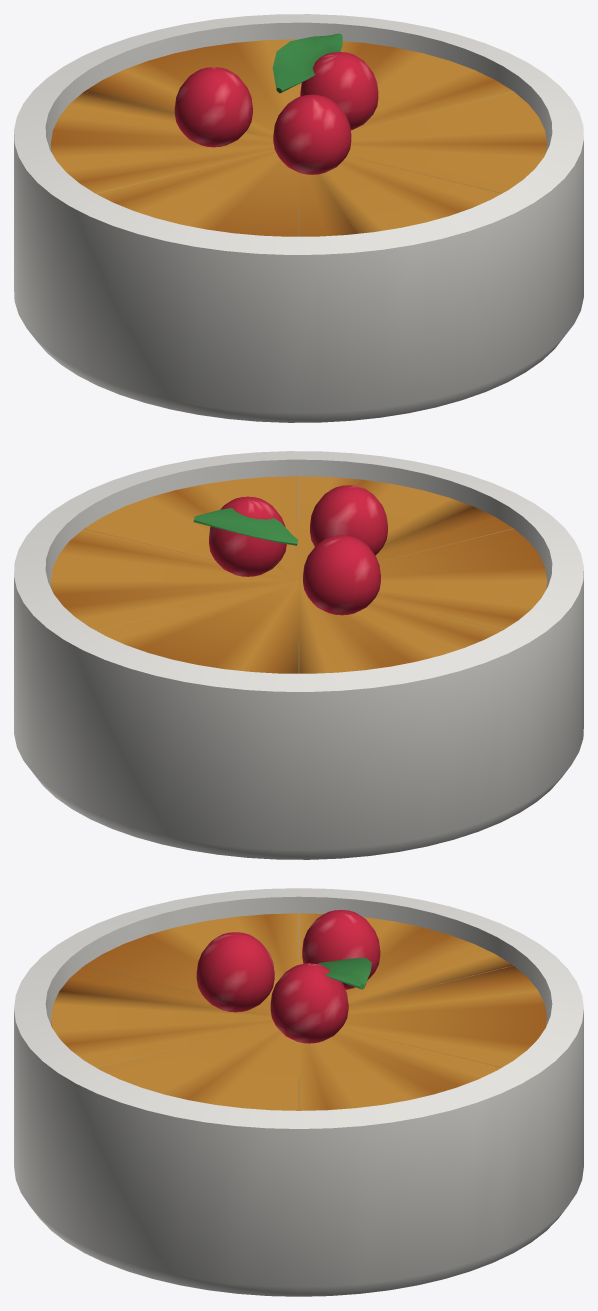
Rendered from dish-creme-brulee-lod0.glb.
3 renders of one model, top to bottom at view 1: azimuth 30°, elevation 25°; view 2: azimuth 150°, elevation 25°; view 3: azimuth 270°, elevation 25°, orthographic.
Visible parts, largest first — view 1: creme-brulee.lod0__table porcelain, creme-brulee.lod0__food glaze, creme-brulee.lod0__food; view 2: creme-brulee.lod0__table porcelain, creme-brulee.lod0__food glaze, creme-brulee.lod0__food; view 3: creme-brulee.lod0__table porcelain, creme-brulee.lod0__food glaze, creme-brulee.lod0__food.
Boxes of the visible parts, x1=… form: creme-brulee.lod0__table porcelain: x1=14, y1=14, x2=583, y2=422; creme-brulee.lod0__food glaze: x1=50, y1=39, x2=547, y2=236; creme-brulee.lod0__food: x1=272, y1=33, x2=342, y2=93; creme-brulee.lod0__table porcelain: x1=14, y1=451, x2=583, y2=859; creme-brulee.lod0__food glaze: x1=50, y1=476, x2=547, y2=673; creme-brulee.lod0__food: x1=193, y1=508, x2=298, y2=545; creme-brulee.lod0__table porcelain: x1=14, y1=888, x2=583, y2=1296; creme-brulee.lod0__food glaze: x1=51, y1=910, x2=546, y2=1110; creme-brulee.lod0__food: x1=317, y1=957, x2=371, y2=989.
Bounding box in the file's own units: 0.108 × 0.0495 × 0.108.
